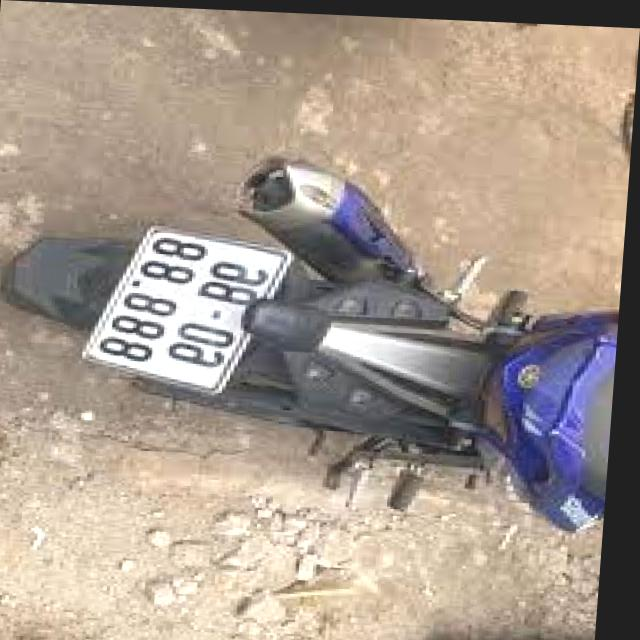bien so: (87, 214, 288, 394), (86, 218, 287, 396), (86, 215, 284, 393)
